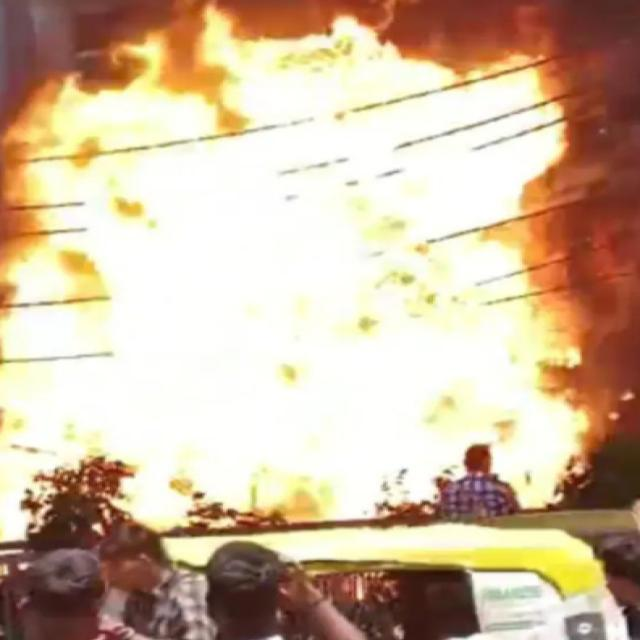fire: (1, 0, 595, 542)
